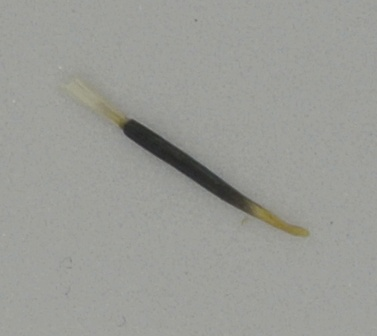เมล็ดดีเรียวยาว: (61, 75, 312, 242)
